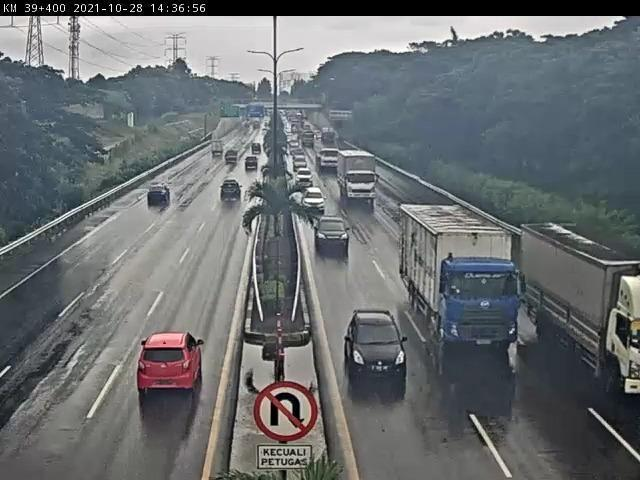car: (113, 335, 214, 392), (349, 305, 405, 378), (316, 217, 355, 255), (219, 179, 248, 220), (139, 186, 168, 213), (304, 180, 323, 207), (297, 164, 310, 184), (224, 151, 238, 168), (244, 161, 258, 178)
truck: (522, 251, 640, 391), (418, 229, 540, 363), (334, 152, 378, 203), (324, 137, 339, 169), (210, 141, 224, 162)
